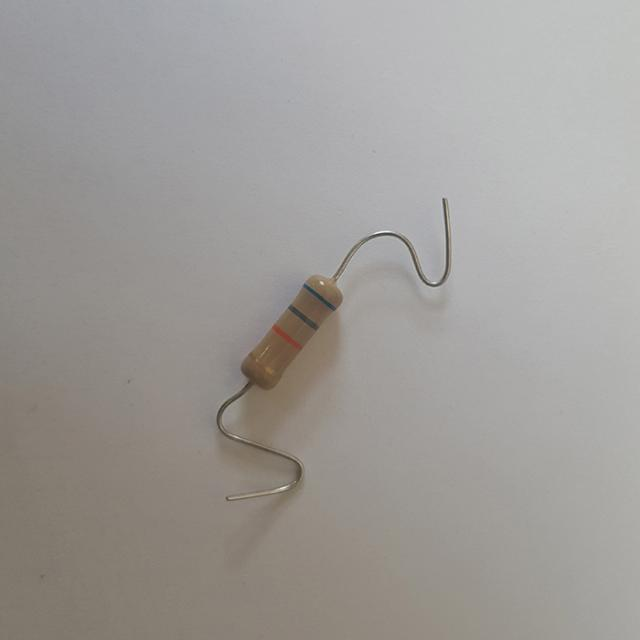blue: (302, 283, 335, 311)
gold: (249, 353, 277, 379)
grey: (288, 304, 317, 328)
orange: (271, 324, 300, 349)
resistor: (225, 254, 353, 401)
